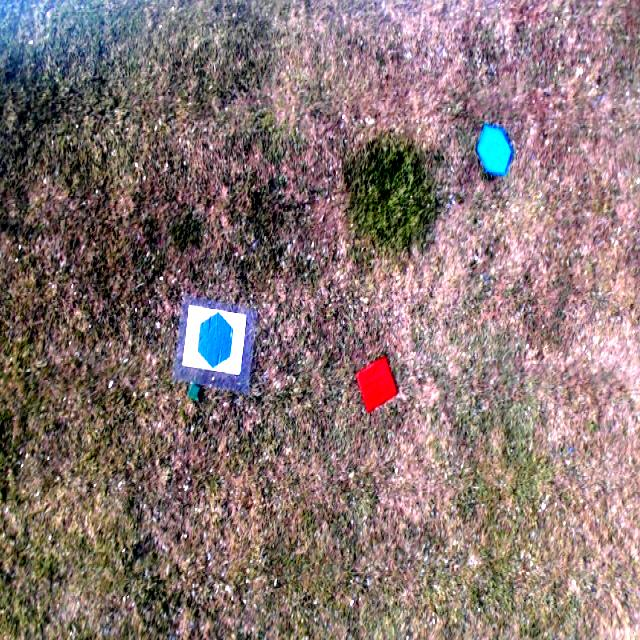blue_hexagon: (198, 310, 234, 372), (477, 124, 513, 178)
red_square: (355, 356, 399, 414)
